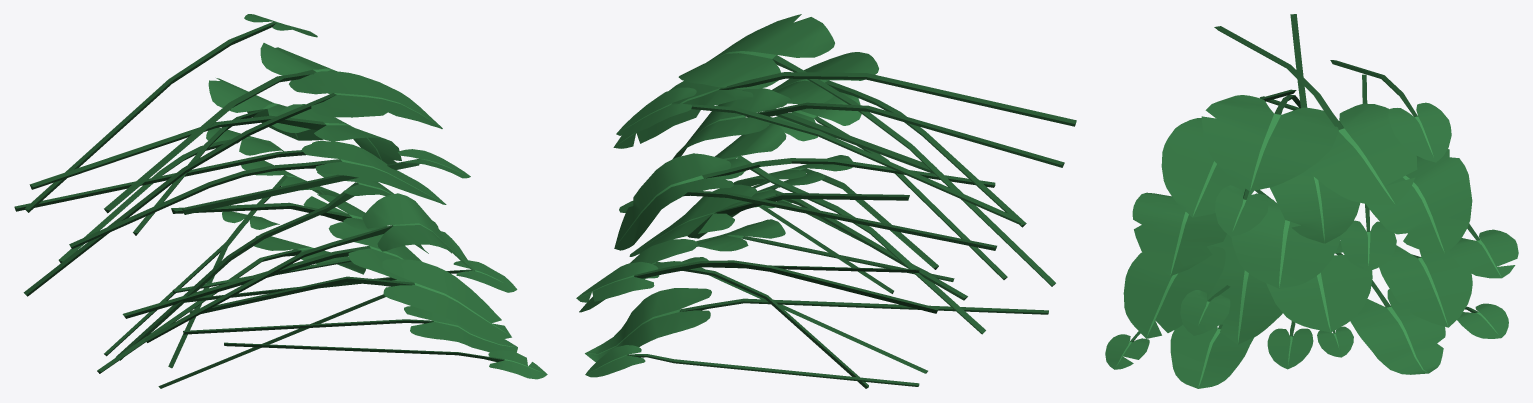
File: plant_monstera_C_wall.fbx
3 views of the same model, side by side, from view 1: azimuth 30°, elevation 25°; view 2: azimuth 150°, elevation 25°; view 3: azimuth 270°, elevation 25° (orthographic). The views are drawn at different scales.
Visible parts, largest first — view 1: plant_monstera_C_leaf_02, plant_monstera_C_leaf_12, plant_monstera_C_leaf_11, plant_monstera_C_leaf_04, plant_monstera_C_leaf_05, plant_monstera_C_leaf_13, plant_monstera_C_leaf_17, plant_monstera_C_leaf_03, plant_monstera_C_leaf_06, plant_monstera_C_leaf_10, plant_monstera_C_leaf_15, plant_monstera_C_leaf_07 (+10 smaller); view 2: plant_monstera_C_leaf_02, plant_monstera_C_leaf_06, plant_monstera_C_leaf_16, plant_monstera_C_leaf_05, plant_monstera_C_leaf_03, plant_monstera_C_leaf_07, plant_monstera_C_leaf_04, plant_monstera_C_leaf_14, plant_monstera_C_leaf_08, plant_monstera_C_leaf_10, plant_monstera_C_leaf_09, plant_monstera_C_leaf_18 (+9 smaller); view 3: plant_monstera_C_leaf_02, plant_monstera_C_leaf_03, plant_monstera_C_leaf_06, plant_monstera_C_leaf_10, plant_monstera_C_leaf_16, plant_monstera_C_leaf_12, plant_monstera_C_leaf_09, plant_monstera_C_leaf_11, plant_monstera_C_leaf_08, plant_monstera_C_leaf_04, plant_monstera_C_leaf_05, plant_monstera_C_leaf_13 (+10 smaller).
Boxes of the visible parts, x1,y1,x2,y2 form: plant_monstera_C_leaf_02: (23, 71, 442, 296); plant_monstera_C_leaf_12: (189, 259, 511, 339); plant_monstera_C_leaf_11: (144, 193, 474, 342); plant_monstera_C_leaf_04: (69, 141, 446, 248); plant_monstera_C_leaf_05: (29, 104, 401, 189); plant_monstera_C_leaf_13: (122, 222, 421, 318); plant_monstera_C_leaf_17: (183, 306, 517, 352); plant_monstera_C_leaf_03: (104, 43, 337, 213); plant_monstera_C_leaf_06: (133, 78, 323, 235); plant_monstera_C_leaf_10: (115, 171, 438, 360); plant_monstera_C_leaf_15: (182, 149, 470, 214); plant_monstera_C_leaf_07: (25, 14, 317, 212); plant_monstera_C_leaf_02: (678, 14, 1055, 286); plant_monstera_C_leaf_06: (614, 153, 995, 250); plant_monstera_C_leaf_16: (585, 288, 1048, 361); plant_monstera_C_leaf_05: (672, 88, 1064, 167); plant_monstera_C_leaf_03: (613, 72, 1076, 148); plant_monstera_C_leaf_07: (616, 87, 1022, 224); plant_monstera_C_leaf_04: (772, 52, 1026, 227); plant_monstera_C_leaf_14: (576, 260, 938, 313); plant_monstera_C_leaf_08: (629, 184, 909, 256); plant_monstera_C_leaf_10: (705, 123, 985, 334); plant_monstera_C_leaf_09: (579, 239, 868, 388); plant_monstera_C_leaf_18: (585, 345, 919, 386); plant_monstera_C_leaf_02: (1201, 94, 1338, 191); plant_monstera_C_leaf_03: (1214, 26, 1417, 205); plant_monstera_C_leaf_06: (1260, 96, 1472, 253); plant_monstera_C_leaf_10: (1231, 194, 1340, 288); plant_monstera_C_leaf_16: (1255, 189, 1445, 374); plant_monstera_C_leaf_12: (1123, 246, 1225, 338); plant_monstera_C_leaf_09: (1379, 245, 1472, 327); plant_monstera_C_leaf_11: (1132, 192, 1226, 276); plant_monstera_C_leaf_08: (1266, 240, 1372, 332); plant_monstera_C_leaf_04: (1161, 89, 1296, 217); plant_monstera_C_leaf_05: (1270, 14, 1360, 243); plant_monstera_C_leaf_13: (1207, 234, 1282, 344).
Size of the model in its own units: 398 by 250 by 385.
